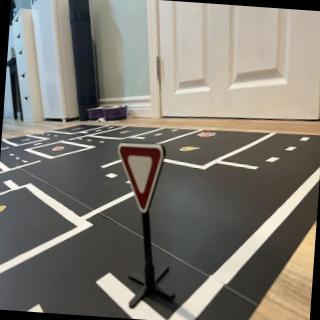sign_yield: (114, 143, 165, 216)
